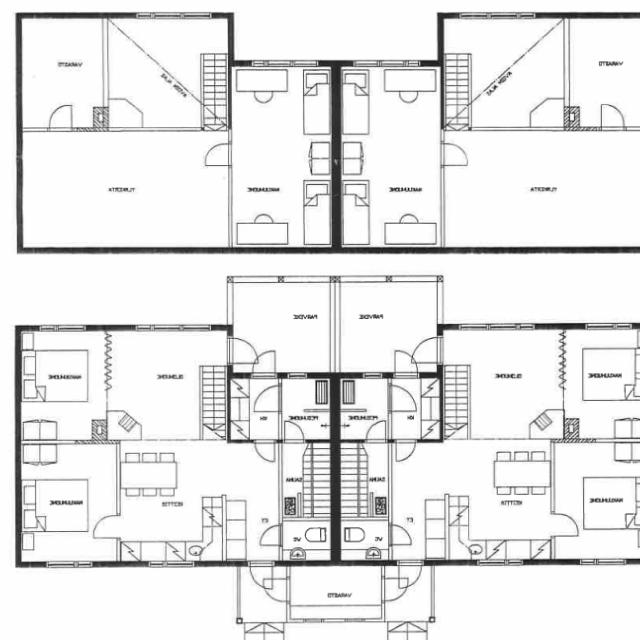door: (388, 384, 419, 410), (252, 385, 283, 411), (411, 337, 443, 362), (227, 338, 259, 362), (394, 349, 418, 378), (252, 350, 275, 378), (399, 559, 422, 586), (264, 577, 290, 600), (381, 578, 408, 600), (251, 558, 272, 586), (551, 514, 577, 536), (441, 143, 467, 165), (602, 106, 624, 130), (50, 107, 72, 131), (95, 516, 120, 537), (206, 144, 231, 164), (389, 525, 413, 545), (259, 525, 282, 545), (396, 438, 416, 460), (285, 419, 304, 441), (255, 438, 274, 459), (367, 420, 385, 440)
